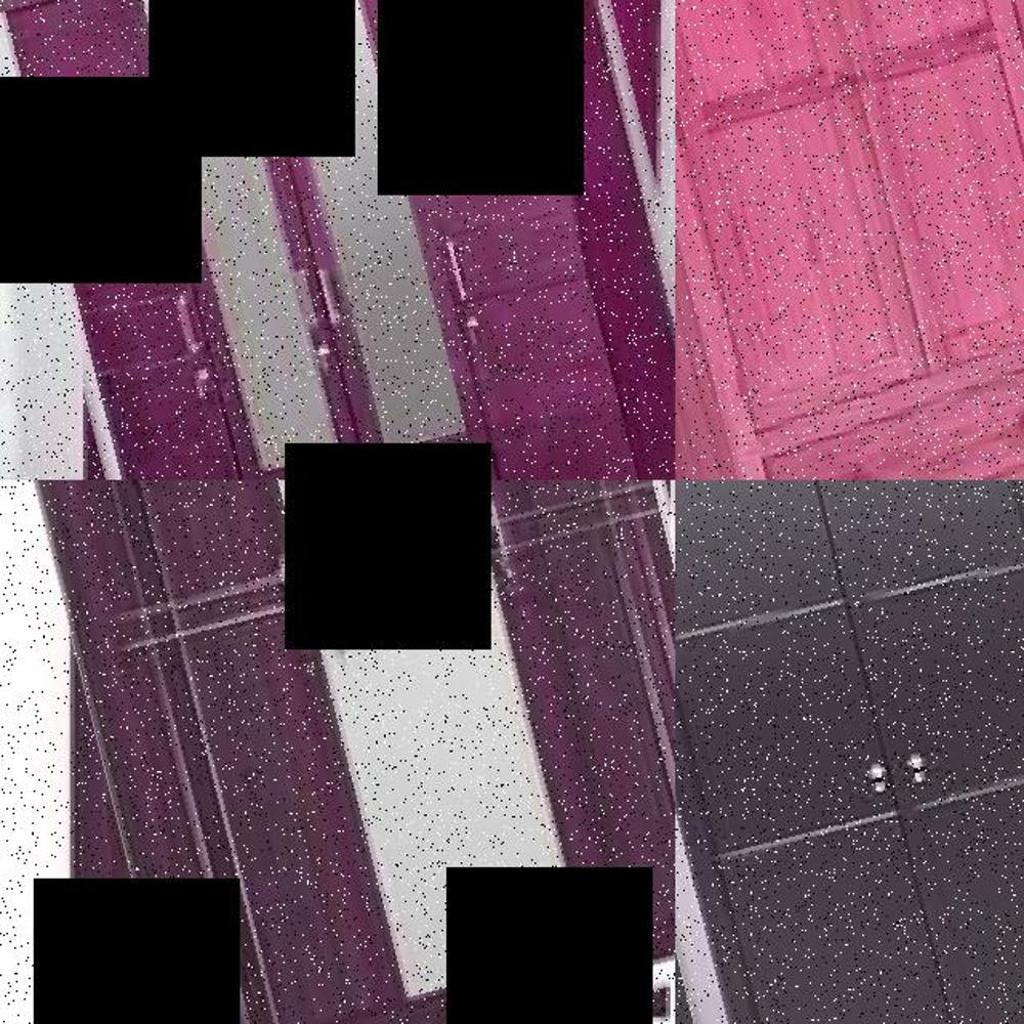cabinet: (18, 480, 675, 1024), (24, 0, 675, 480), (675, 480, 1024, 1024), (675, 0, 1024, 480)
